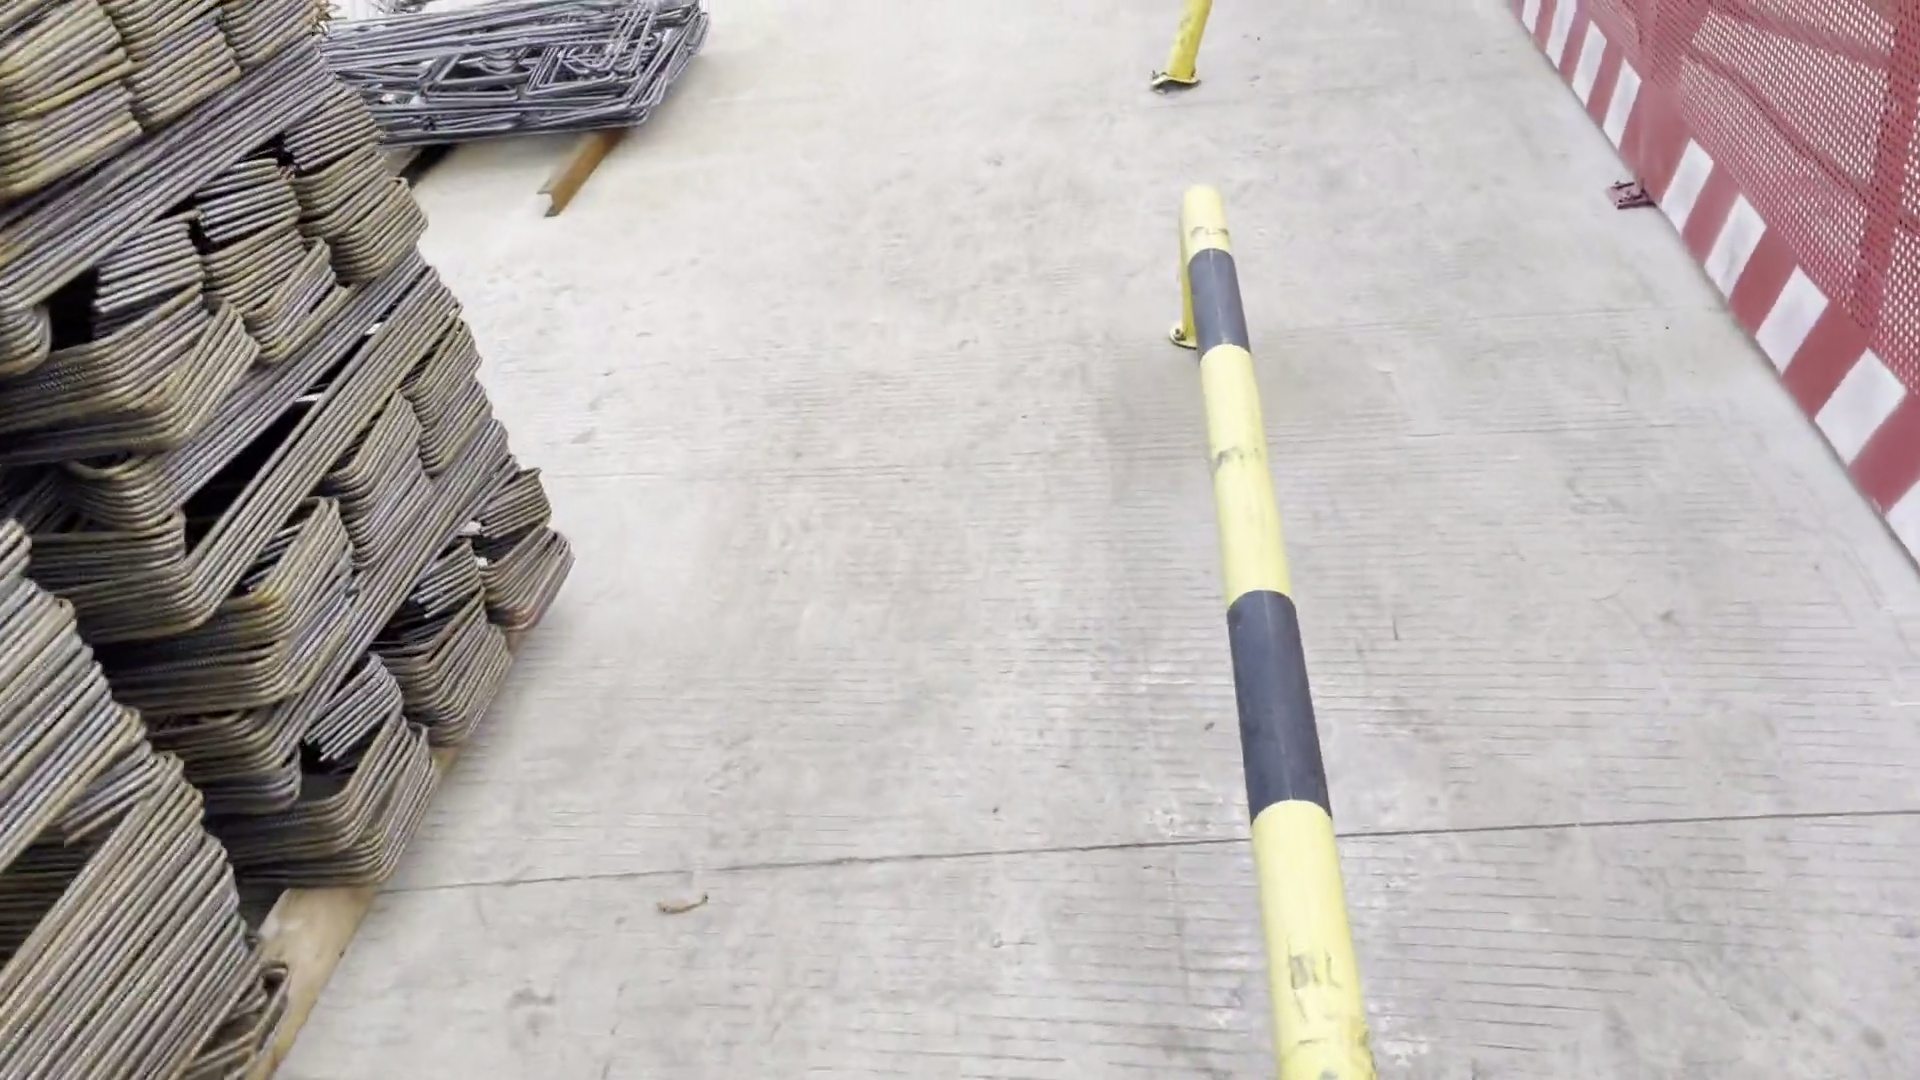fence: (1507, 1, 1920, 579)
